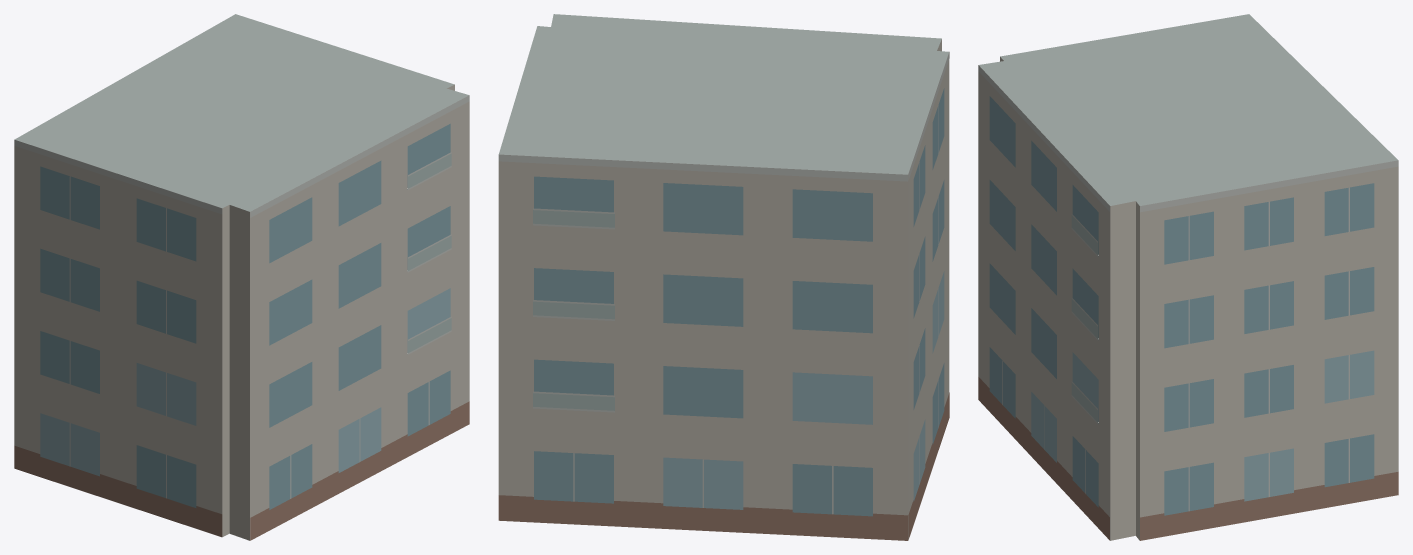
File: survey-upis-32853742.glb
3 views of the same model, side by side, from view 1: azimuth 30°, elevation 25°; view 2: azimuth 150°, elevation 25°; view 3: azimuth 270°, elevation 25° (orthographic). The views are drawn at different scales.
Parts seen in each view (by area): view 1: survey-upis-32853742.tmp; view 2: survey-upis-32853742.tmp; view 3: survey-upis-32853742.tmp.
Part boxes in pixels (x1,y1,x2,y2): survey-upis-32853742.tmp: [14, 14, 469, 540]; survey-upis-32853742.tmp: [498, 14, 949, 540]; survey-upis-32853742.tmp: [978, 14, 1398, 540].
Size of the model in its own units: 16.13 by 13.1 by 14.91.
